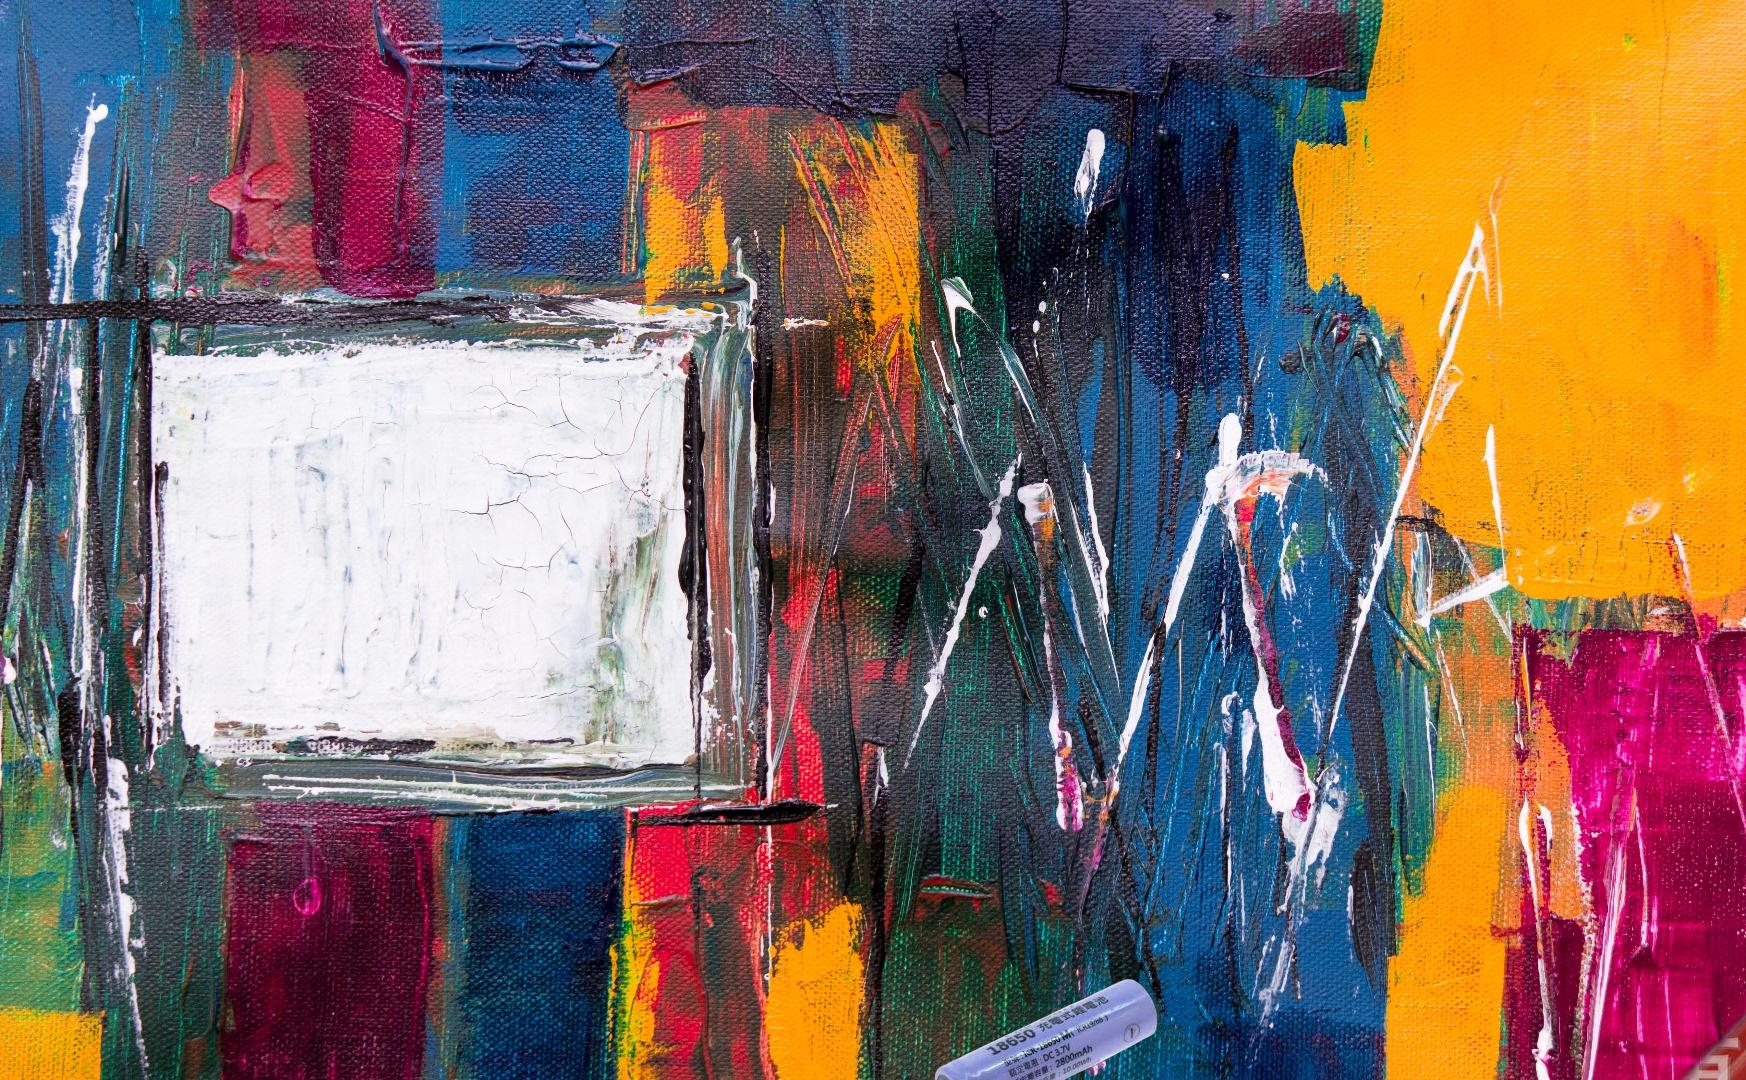battery: (932, 976, 1160, 1080)
penholder: (1201, 247, 1746, 1080)
